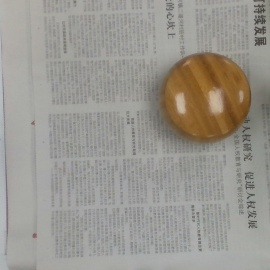chess: (160, 53, 253, 143)
